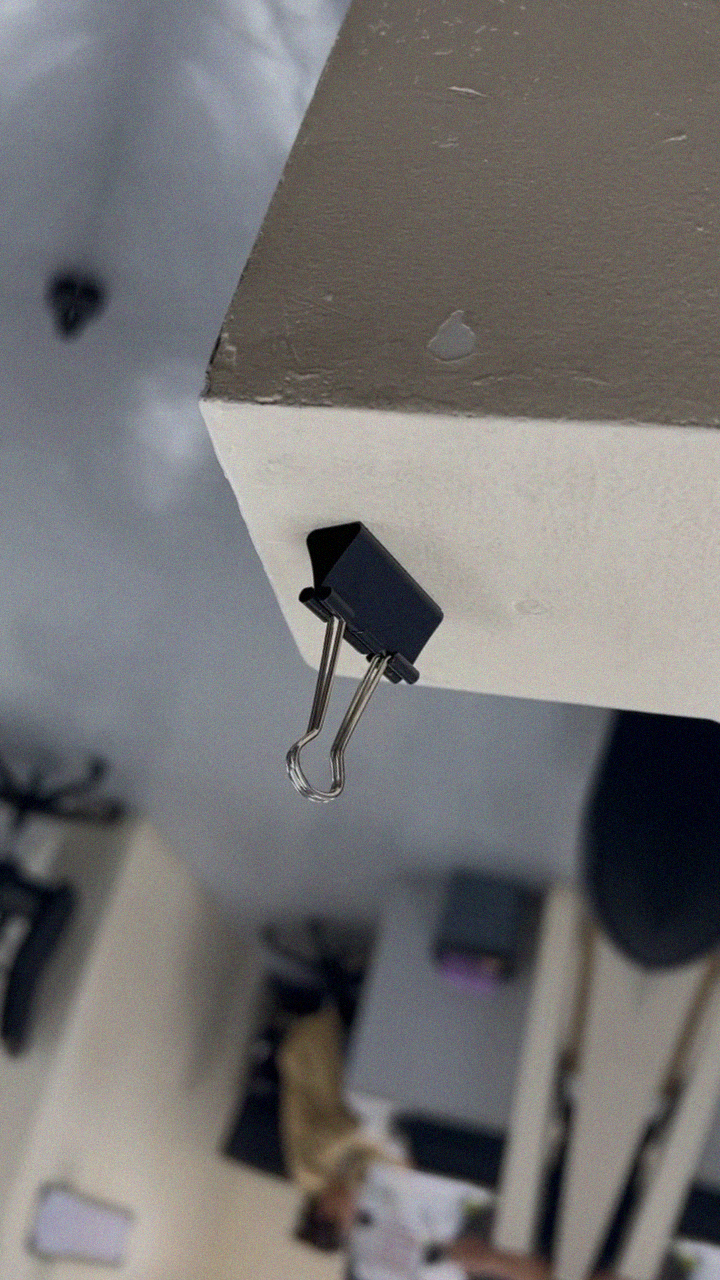kep_giay: (235, 503, 473, 826)
